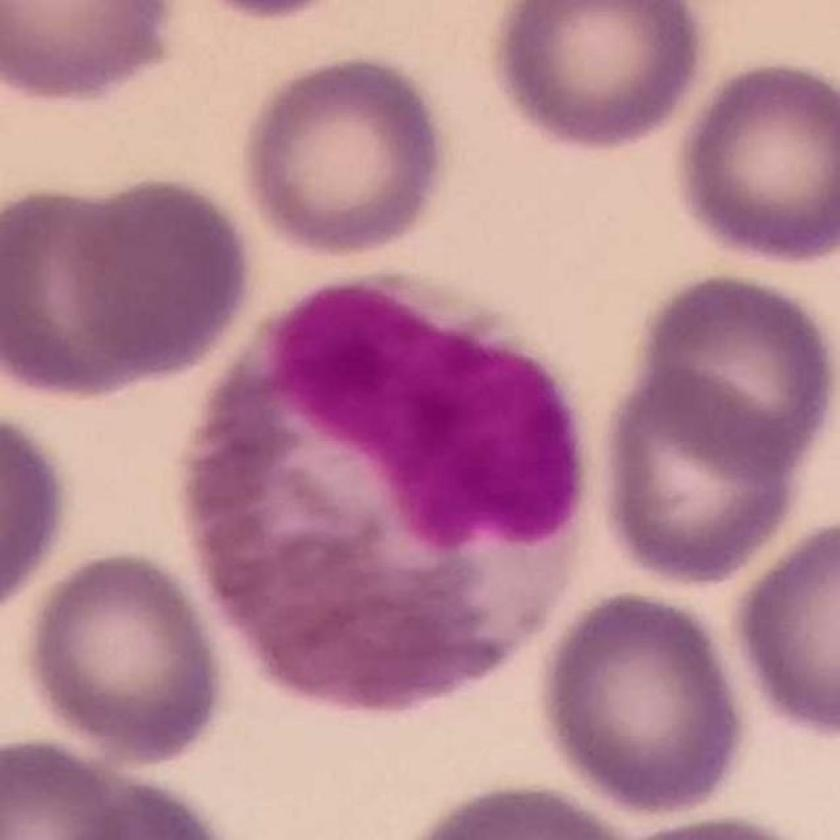eosinophil: (186, 271, 586, 715)
